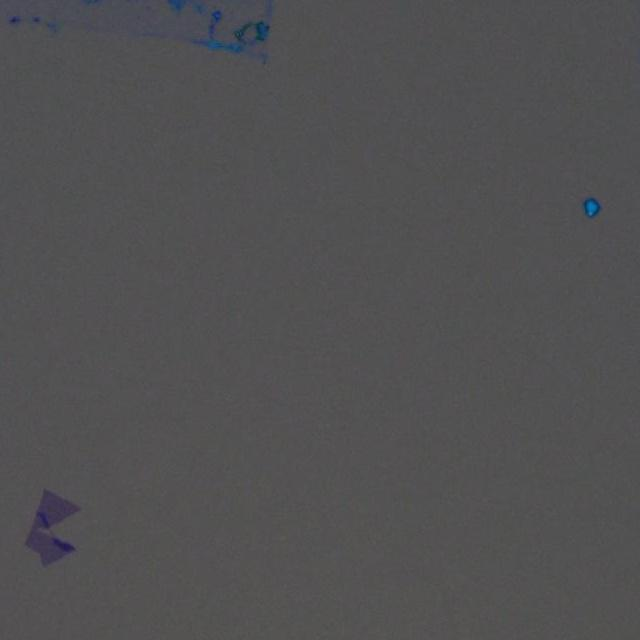monolayer-eWW4: (22, 517, 66, 569), (39, 488, 83, 528)
